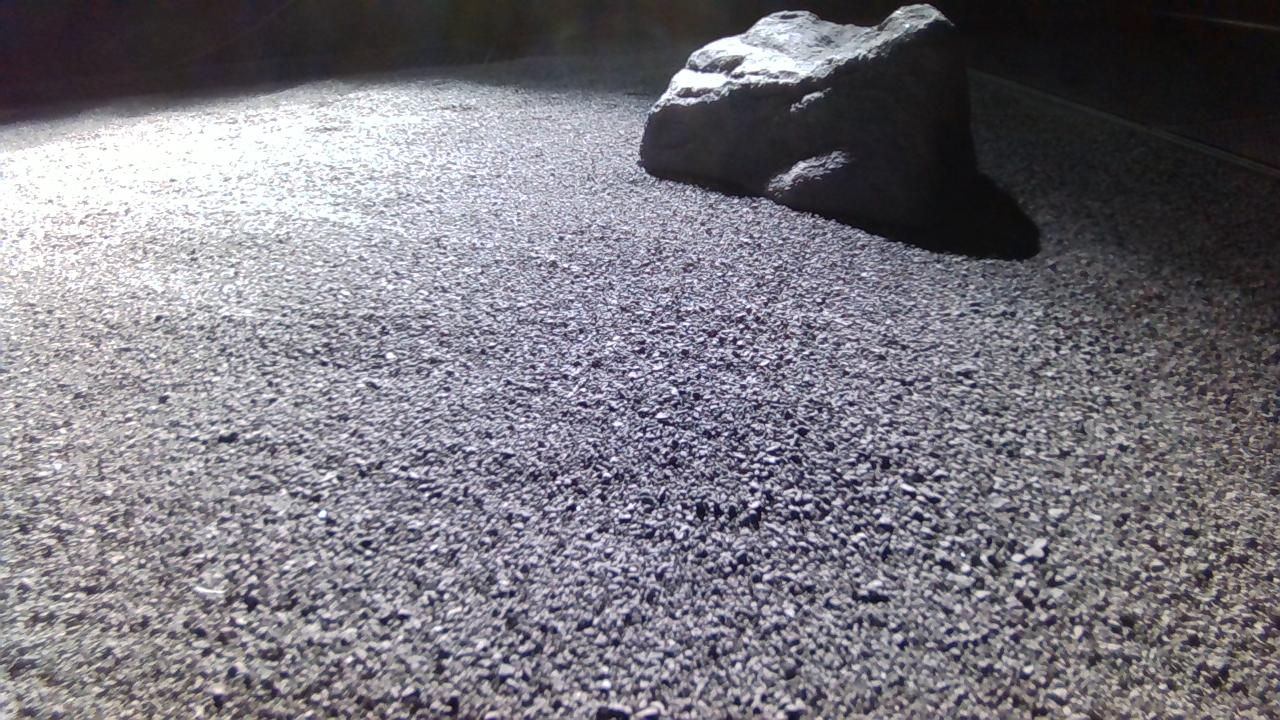rock: (641, 3, 978, 228)
